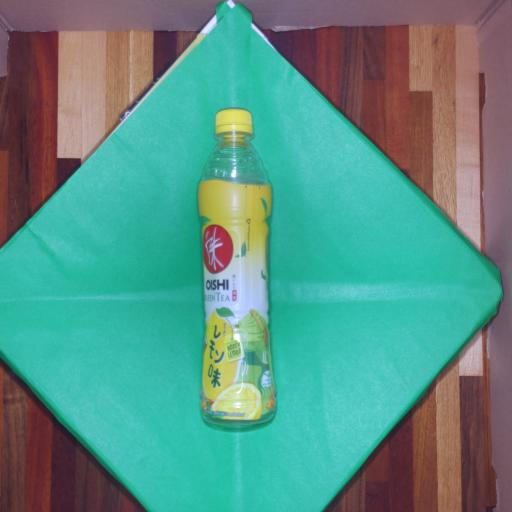bottle: (199, 109, 275, 427)
